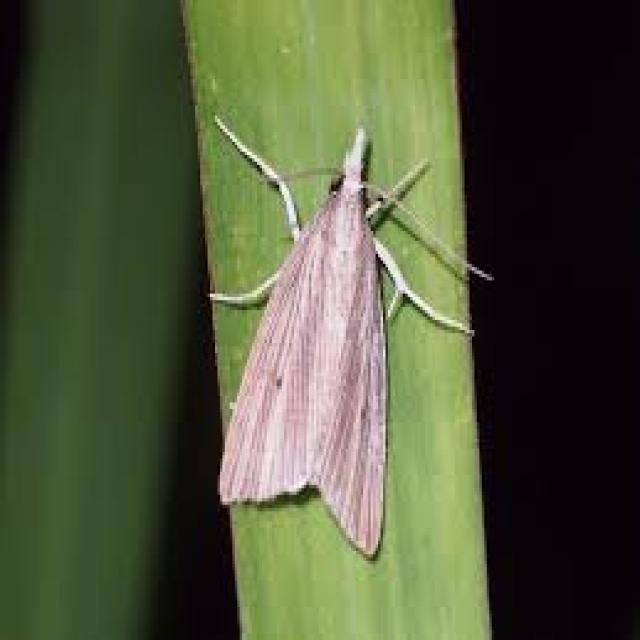yellow-stem-borer: (166, 68, 520, 587)
